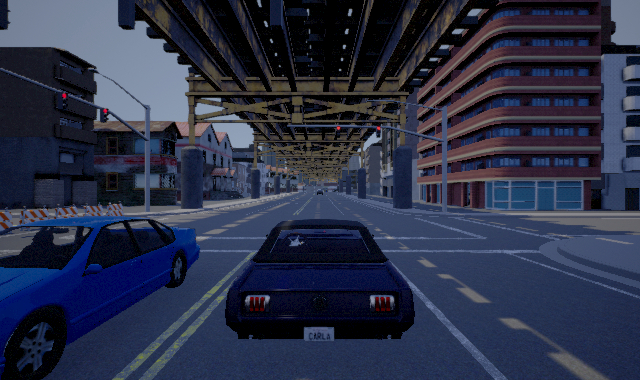traffic_light: (58, 92, 68, 111), (100, 108, 109, 123), (376, 126, 381, 138), (337, 126, 340, 138)
vehicle: (1, 216, 201, 380), (225, 219, 415, 341), (316, 188, 323, 196)
